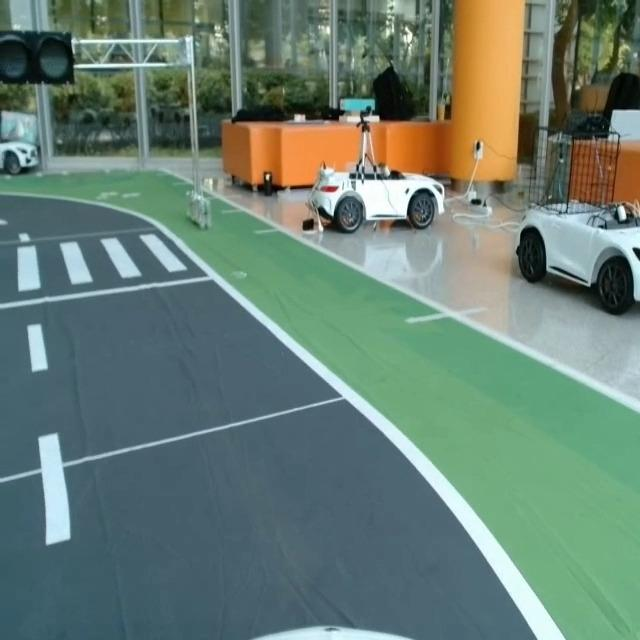traffic-light: (0, 31, 80, 88)
